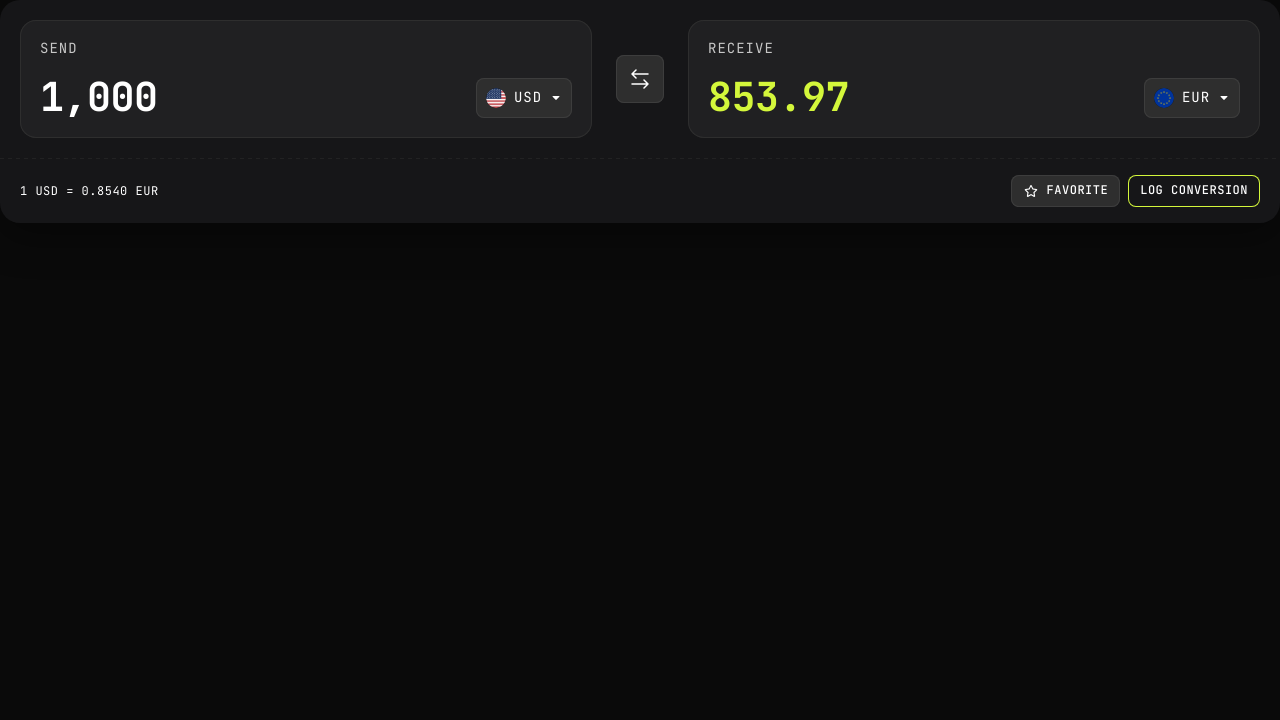
Test: Converter › opens receive currency search after the receive amount was edited most recently
The image size is (1280, 720).
Replace the text in the field named "Amount" below "Receive" with "25" at (778, 97), box left=708, top=77, right=849, bottom=118
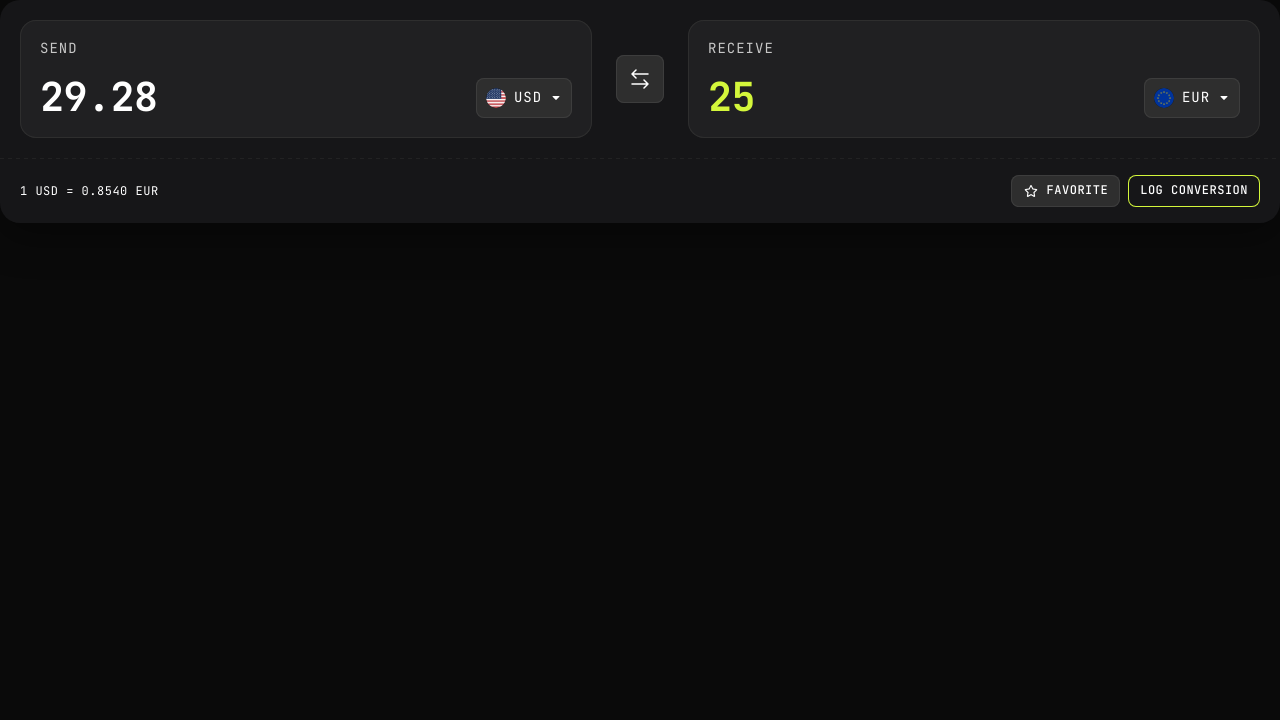
Press k
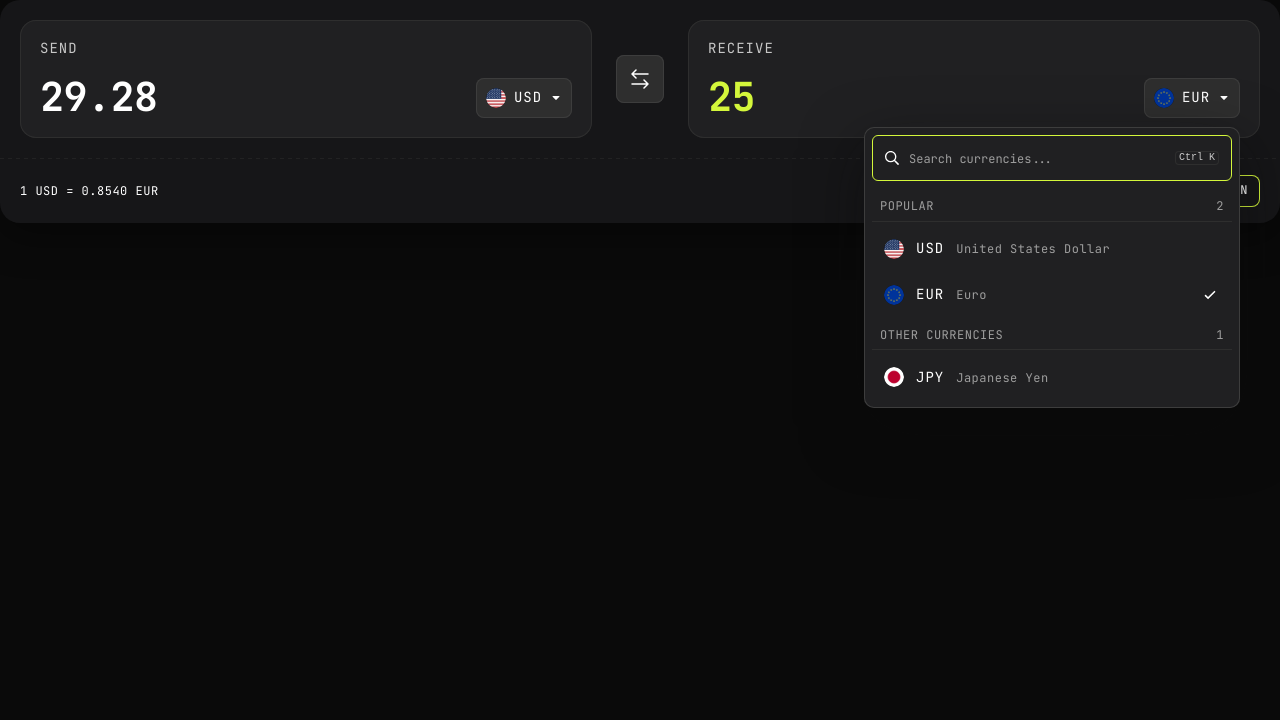
Expected: the button "EUR" is shown, left=1144, top=78, right=1240, bottom=118
Result: the dialog named "Currency picker" is shown at left=864, top=127, right=1240, bottom=408
